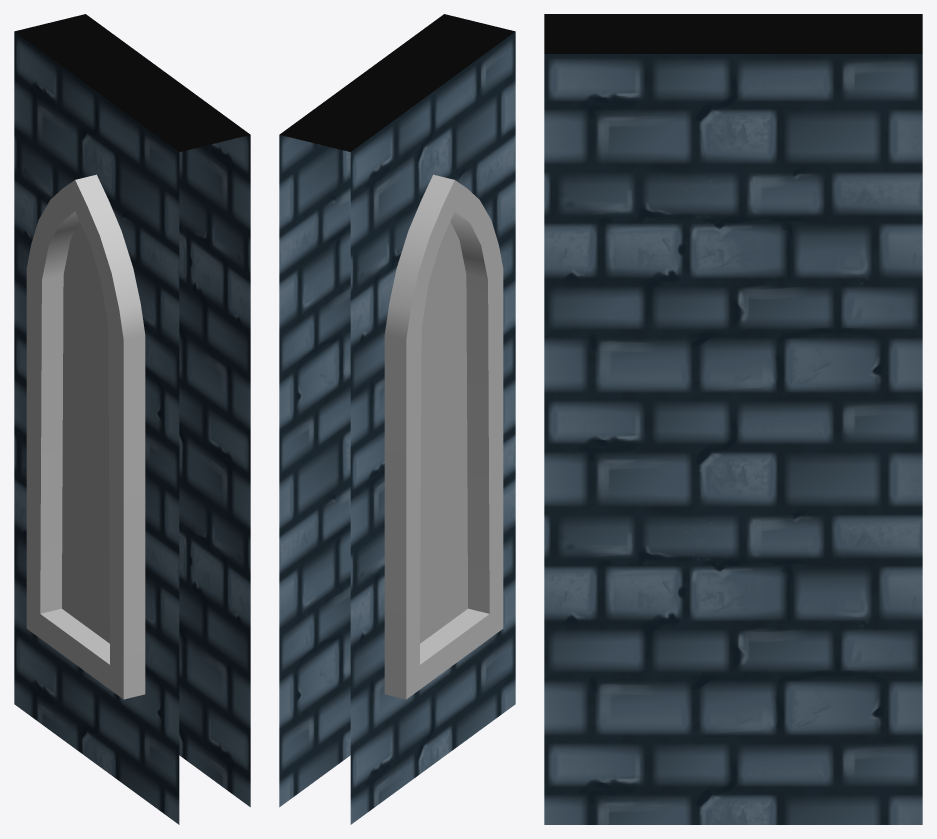
File: SM_WindowWall.fbx
3 views of the same model, side by side, from view 1: azimuth 30°, elevation 25°; view 2: azimuth 150°, elevation 25°; view 3: azimuth 270°, elevation 25° (orthographic). The views are drawn at different scales.
Visible parts, largest first — view 1: SM_Window1; view 2: SM_Window1; view 3: SM_Window1.
Boxes of the visible parts, x1,y1,x2,y2 form: SM_Window1: (14,14,250,824); SM_Window1: (279,14,515,824); SM_Window1: (544,14,922,824).
Bounding box in the file's own units: 65.12 × 450 × 200.
